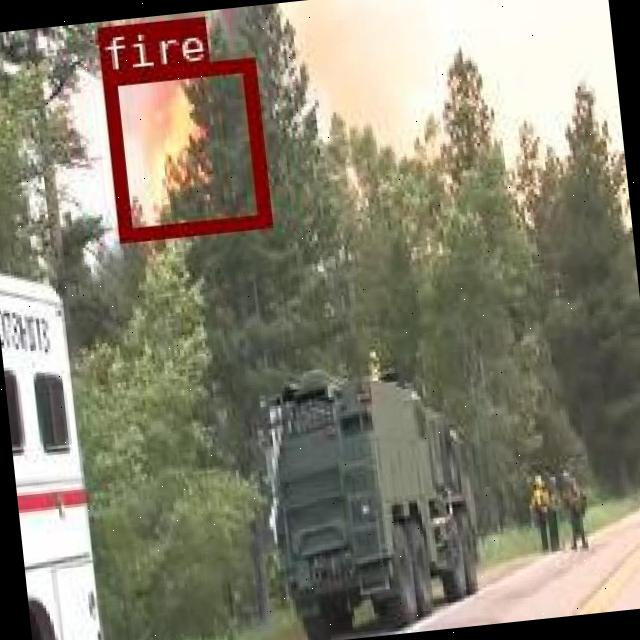fire: (102, 56, 268, 238)
